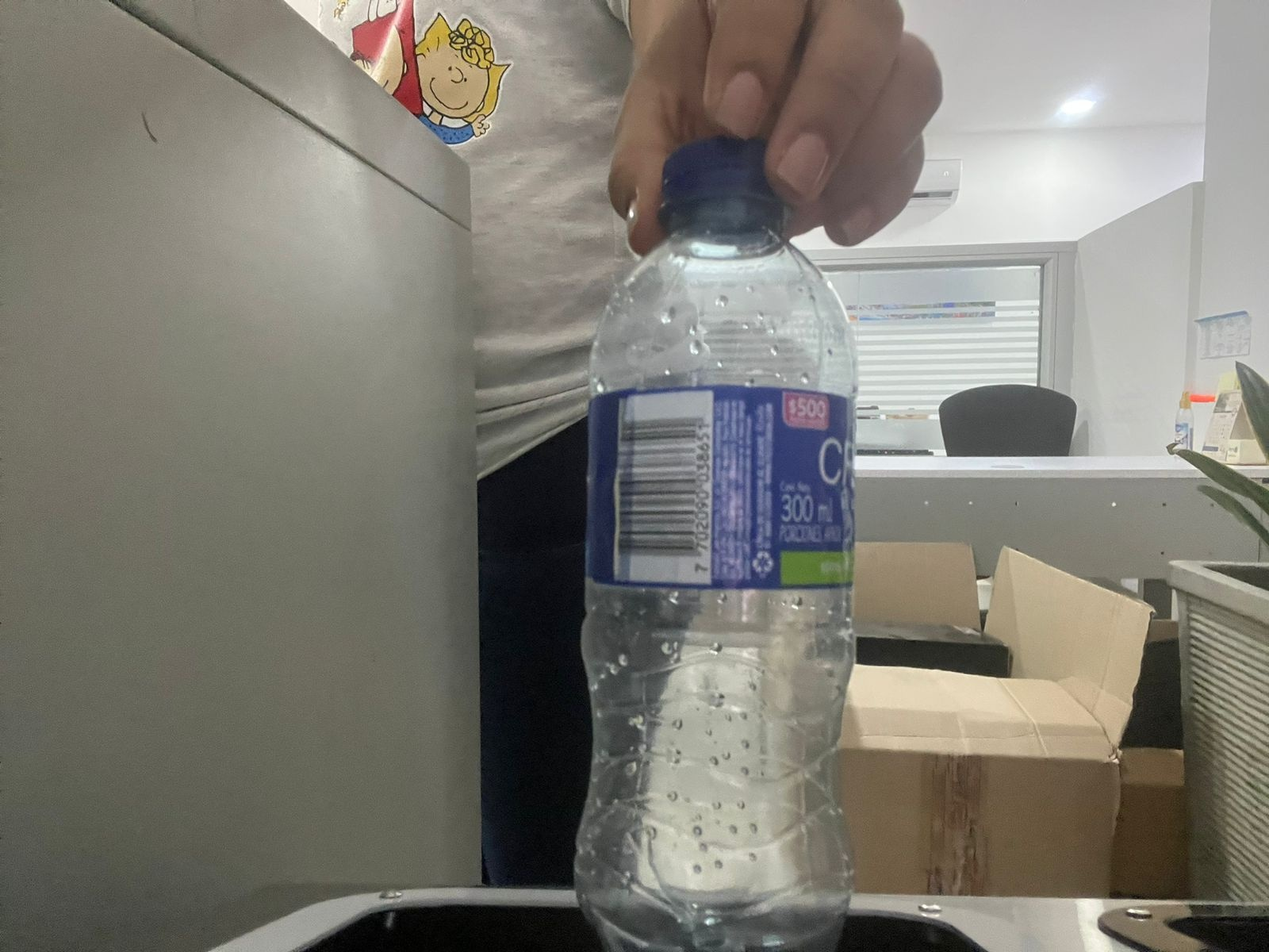Plastico: (575, 143, 856, 952)
